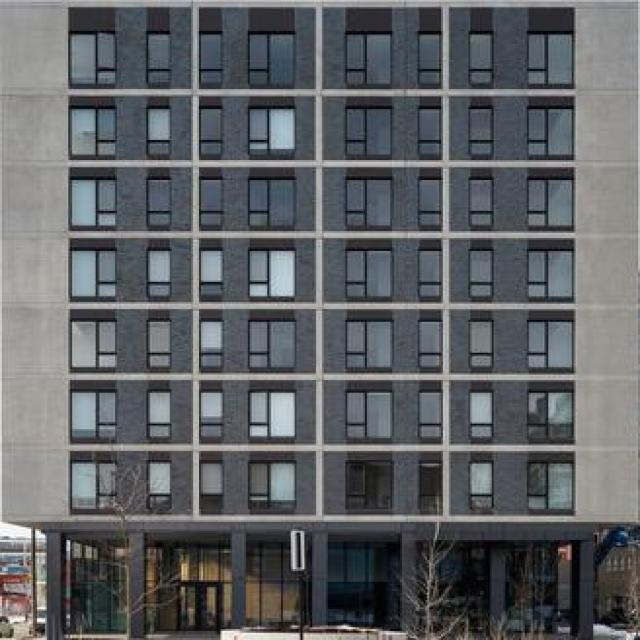door: (175, 582, 218, 631)
wall: (3, 0, 640, 638)
windows: (154, 550, 228, 633), (72, 545, 131, 638), (248, 543, 309, 628), (336, 546, 394, 627), (424, 548, 481, 630), (511, 549, 558, 628), (72, 34, 120, 88), (70, 106, 118, 160), (70, 170, 118, 224), (71, 388, 119, 442), (529, 248, 576, 303), (70, 459, 117, 514), (69, 242, 116, 296), (252, 174, 297, 229), (528, 107, 574, 160), (530, 177, 576, 230), (253, 34, 297, 89), (253, 104, 297, 159), (528, 394, 577, 443), (346, 462, 394, 512), (530, 36, 576, 88), (72, 323, 120, 372), (529, 321, 575, 372), (527, 466, 577, 512), (349, 37, 394, 88), (350, 394, 394, 446), (348, 108, 392, 159), (349, 177, 393, 228), (348, 250, 393, 299), (252, 249, 296, 299), (252, 466, 296, 515), (252, 392, 296, 441), (347, 325, 393, 371), (252, 322, 295, 370), (470, 36, 495, 88), (471, 106, 495, 158), (473, 248, 497, 300), (470, 177, 494, 229), (149, 390, 173, 442), (472, 323, 496, 375), (148, 173, 172, 224), (148, 243, 172, 294), (202, 34, 224, 89), (471, 464, 495, 514), (150, 105, 173, 157), (420, 320, 443, 372), (202, 107, 224, 161), (202, 174, 224, 228), (420, 466, 444, 515), (150, 36, 173, 87), (151, 462, 174, 513), (420, 176, 442, 229), (201, 247, 223, 300), (470, 394, 495, 440), (202, 464, 224, 516), (421, 109, 442, 160), (422, 248, 443, 299), (151, 322, 173, 370), (422, 393, 443, 443), (422, 35, 442, 86), (203, 392, 222, 442), (203, 324, 221, 372)
